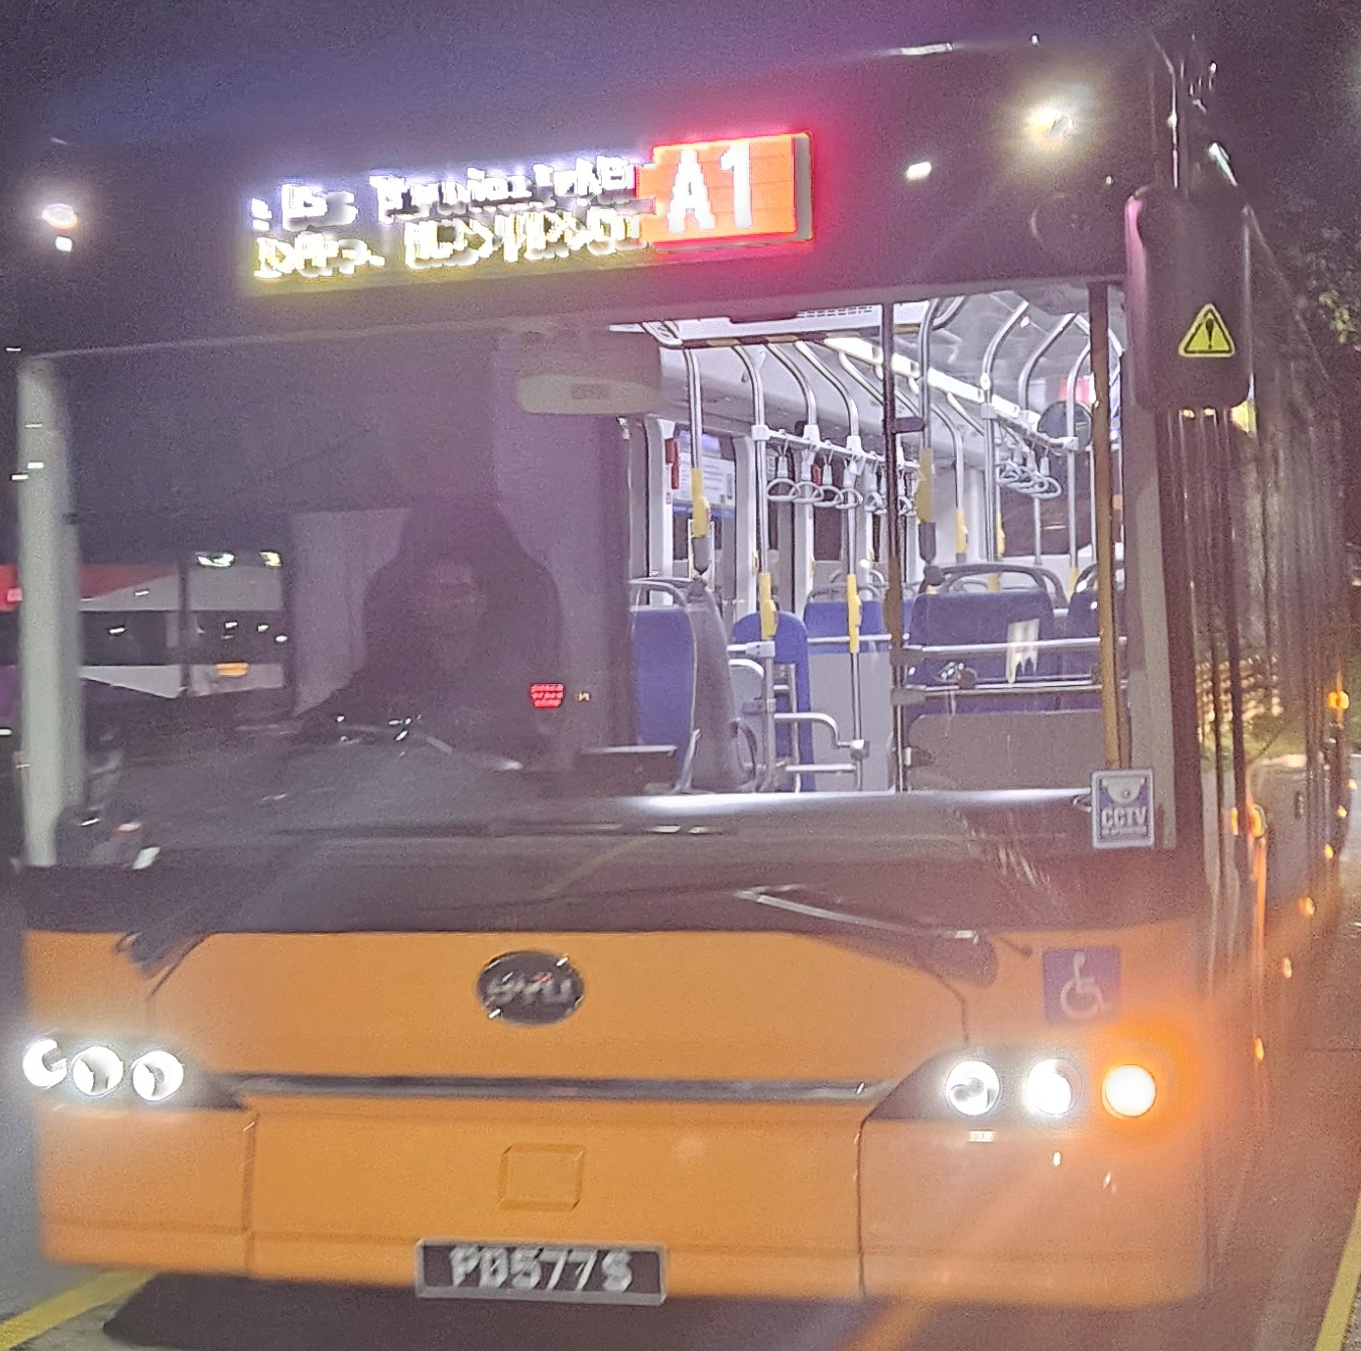bus: (650, 145, 798, 247)
